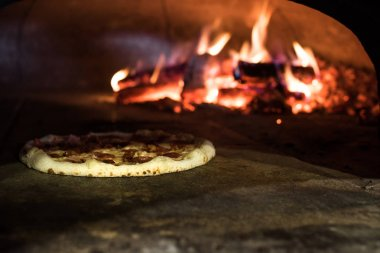fire: (183, 31, 329, 113)
